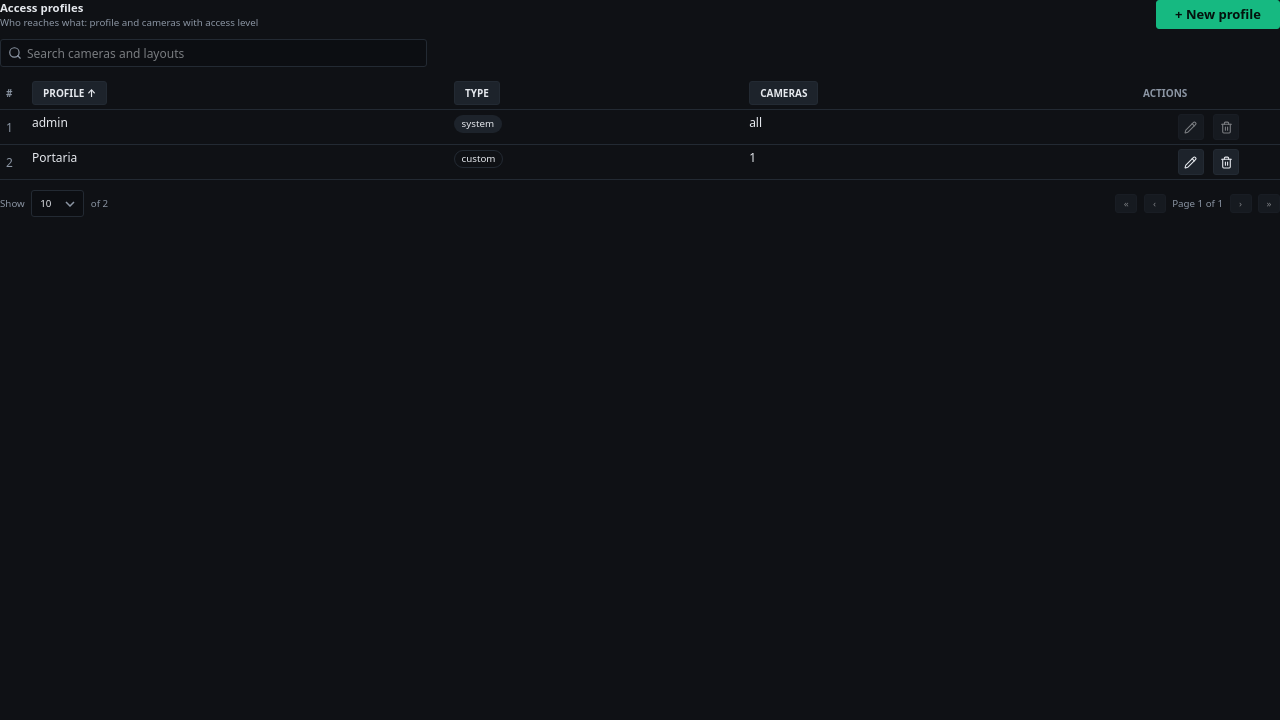
Test case: ProfilesTable (spec 2026-10-18 4.4; grants on demand since 2026-10-20 §5) › the editor loads the grants on demand and paints the levels that came
Check: the text "Portaria" is shown, box x1=32 y1=149 x2=77 y2=166
Click the button named "Edit Portaria" at (1191, 162), box x1=1178 y1=149 x2=1204 y2=175
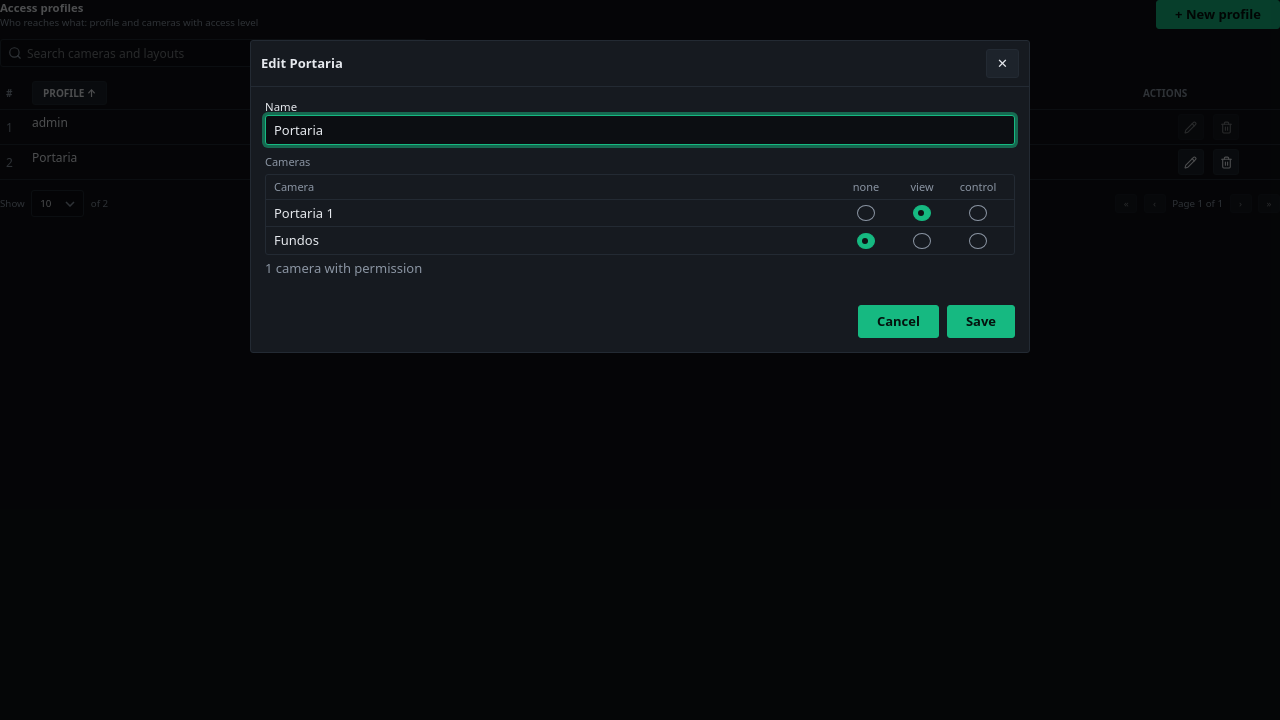
Check: the radio button named "view — Portaria 1" is checked, box x1=913 y1=205 x2=931 y2=221
Check: the radio button named "none — Fundos" is checked, box x1=857 y1=233 x2=875 y2=249
